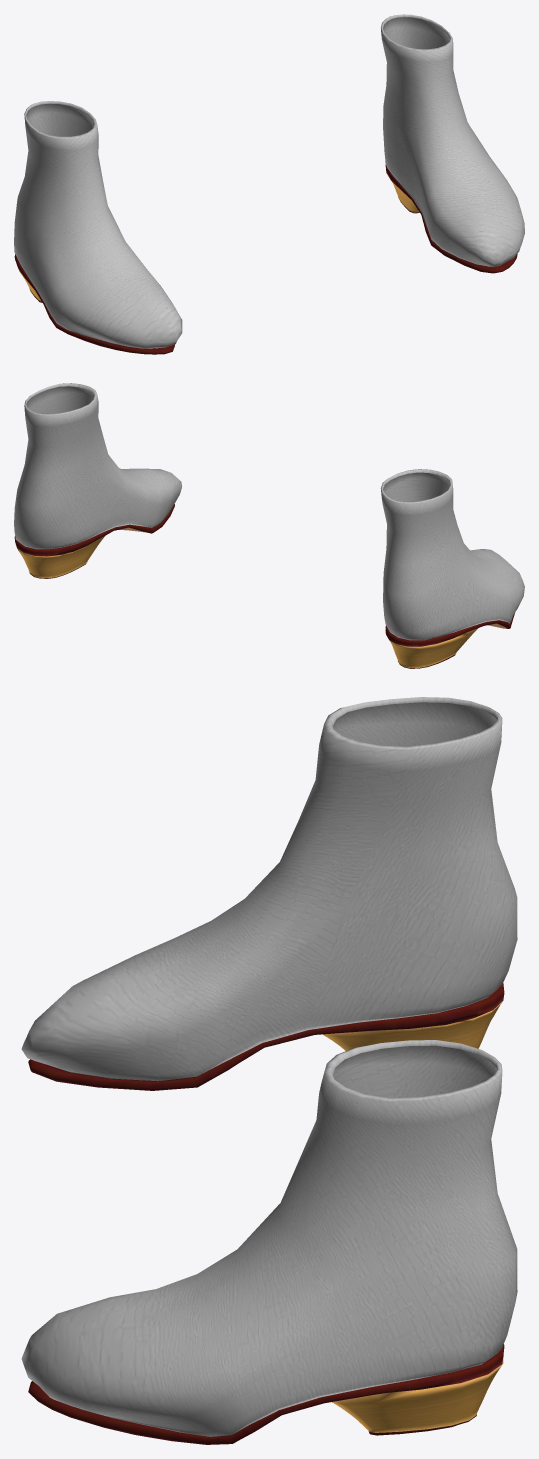
The model's file is toigo-ankle-boots-female.glb.
3 renders of one model, top to bottom at view 1: azimuth 30°, elevation 25°; view 2: azimuth 150°, elevation 25°; view 3: azimuth 270°, elevation 25°, orthographic. The views are drawn at different scales.
Parts seen in each view (by area): view 1: Human.toigo_ankle_boots_female; view 2: Human.toigo_ankle_boots_female; view 3: Human.toigo_ankle_boots_female.
Part boxes in pixels (x1,y1,x2,y2): Human.toigo_ankle_boots_female: (14, 14, 524, 354); Human.toigo_ankle_boots_female: (14, 383, 524, 668); Human.toigo_ankle_boots_female: (21, 697, 517, 1444).
Bounding box in the file's own units: 0.4303 × 0.1534 × 0.2015.
Materials: 1 (1 with a texture image).
